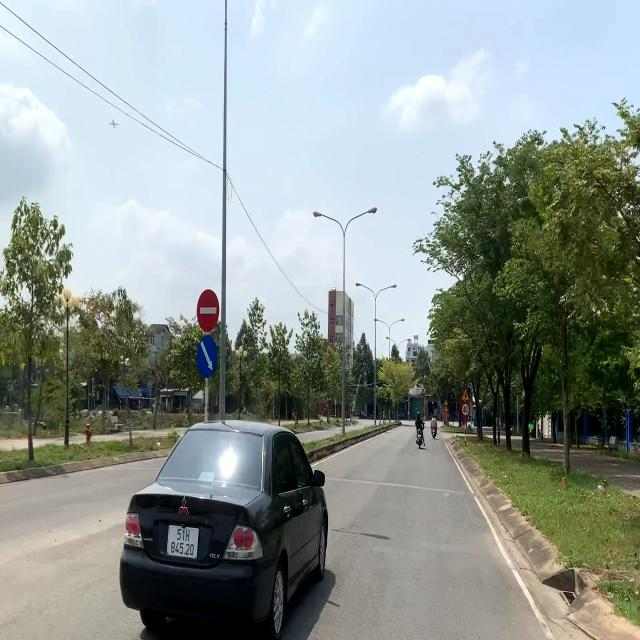P-102: (196, 286, 220, 334)
R-302a: (198, 336, 216, 381)
